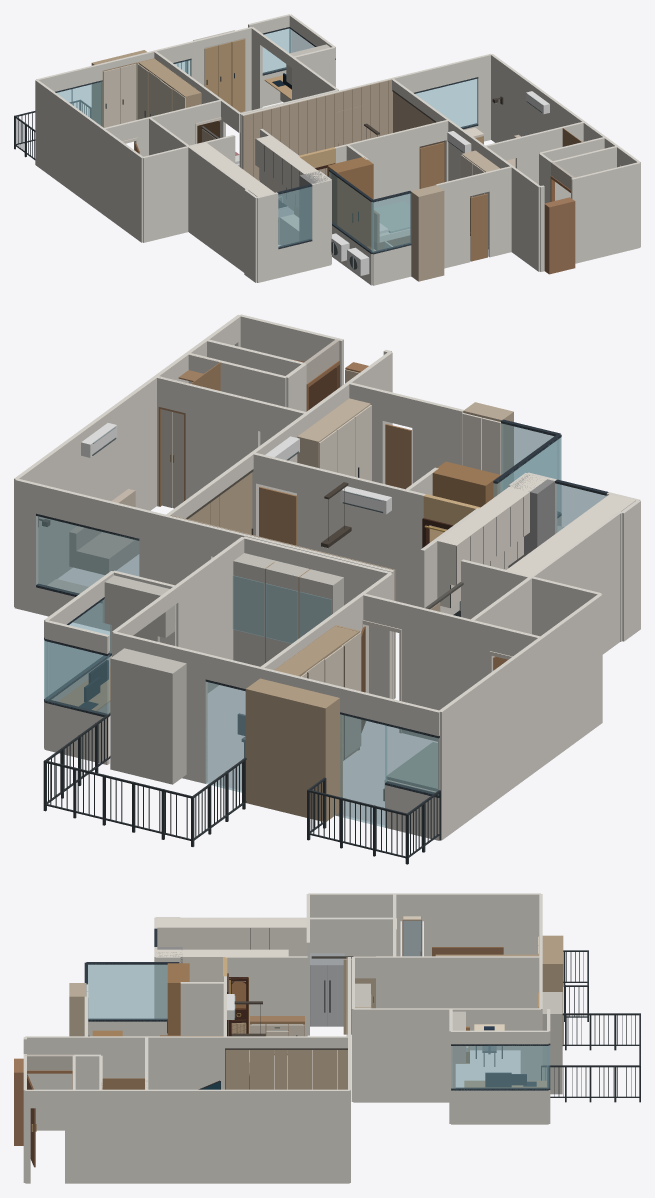
The model's file is A501-furnished-reference.glb.
The picture shows the model from 3 angles, top to bottom: view 1: azimuth 30°, elevation 25°; view 2: azimuth 150°, elevation 25°; view 3: azimuth 270°, elevation 25°; orthographic projection. The views are drawn at different scales.
Visible parts, largest first — view 1: Element 1, Element 19, Element 7, Element 189, Element 5, Element 12, Element 52, Element 4, Element 615, Element 609, Element 13, Element 126 (+67 smaller); view 2: Element 1, Element 371, Element 12, Element 52, Element 583, Element 577, Element 4, Element 56, Element 15, Element 35, Element 79, Element 684 (+74 smaller); view 3: Element 12, Element 79, Element 78, Element 17, Element 1, Element 665, Element 13, Element 25, Element 53, Element 89, Element 44, Element 6 (+42 smaller).
Part boxes in pixels (bbox=[...]): Element 1: bbox=[35, 79, 104, 213]; Element 19: bbox=[571, 162, 640, 263]; Element 7: bbox=[188, 147, 247, 272]; Element 189: bbox=[243, 93, 336, 181]; Element 5: bbox=[143, 146, 188, 242]; Element 12: bbox=[491, 54, 585, 142]; Element 52: bbox=[334, 127, 419, 207]; Element 4: bbox=[102, 128, 143, 242]; Element 615: bbox=[410, 185, 444, 281]; Element 609: bbox=[327, 157, 373, 247]; Element 13: bbox=[483, 146, 540, 271]; Element 126: bbox=[544, 197, 575, 274]; Element 1: bbox=[438, 637, 542, 840]; Element 371: bbox=[245, 678, 342, 821]; Element 12: bbox=[14, 376, 157, 606]; Element 52: bbox=[297, 463, 425, 606]; Element 583: bbox=[110, 648, 186, 784]; Element 577: bbox=[233, 553, 343, 666]; Element 4: bbox=[539, 593, 602, 766]; Element 56: bbox=[402, 603, 491, 741]; Element 15: bbox=[185, 383, 260, 499]; Element 35: bbox=[36, 516, 139, 594]; Element 79: bbox=[175, 537, 244, 692]; Element 684: bbox=[436, 474, 546, 585]; Element 12: bbox=[146, 1089, 349, 1183]; Element 79: bbox=[353, 1008, 450, 1102]; Element 78: bbox=[387, 956, 540, 1049]; Element 17: bbox=[65, 1089, 146, 1183]; Element 1: bbox=[394, 893, 540, 956]; Element 665: bbox=[155, 918, 308, 956]; Element 13: bbox=[25, 1036, 146, 1130]; Element 25: bbox=[88, 963, 167, 1019]; Element 53: bbox=[225, 956, 307, 1036]; Element 89: bbox=[451, 1044, 548, 1090]; Element 44: bbox=[146, 1036, 224, 1089]; Element 6: bbox=[308, 917, 394, 1008].
Bounding box in the file's own units: 12.34 × 2.7 × 16.53.
